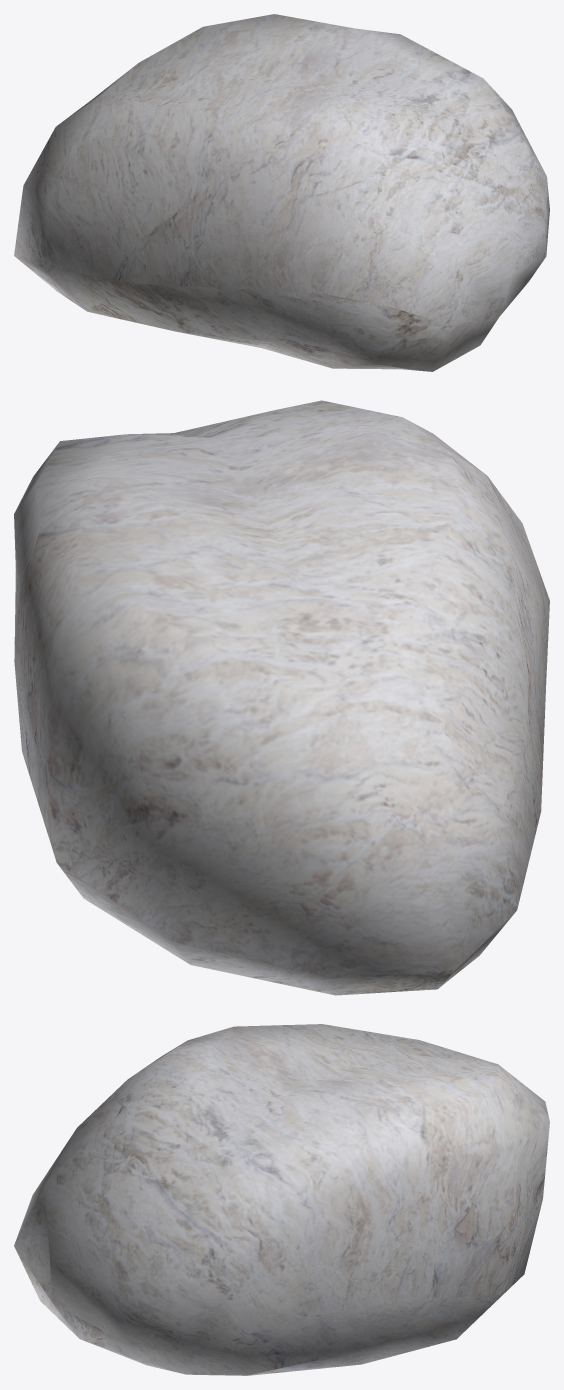
File: Rock1.fbx
3 renders of one model, top to bottom at view 1: azimuth 30°, elevation 25°; view 2: azimuth 150°, elevation 25°; view 3: azimuth 270°, elevation 25°, orthographic. The views are drawn at different scales.
Visible parts, largest first — view 1: Cube; view 2: Cube; view 3: Cube.
Boxes of the visible parts, <box> form: Cube: <box>14,14,549,371</box>; Cube: <box>14,400,549,995</box>; Cube: <box>14,1024,549,1375</box>.
Size of the model in its own units: 249 by 155 by 266.
Materials: 1 (1 with a texture image).
